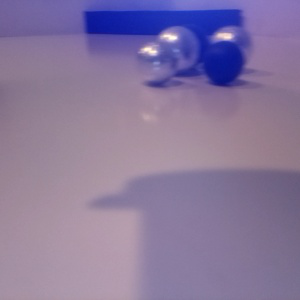alive_ball: (158, 25, 201, 73), (137, 42, 178, 83), (211, 25, 252, 66)
dead_ball: (168, 24, 209, 69), (204, 42, 245, 84)
